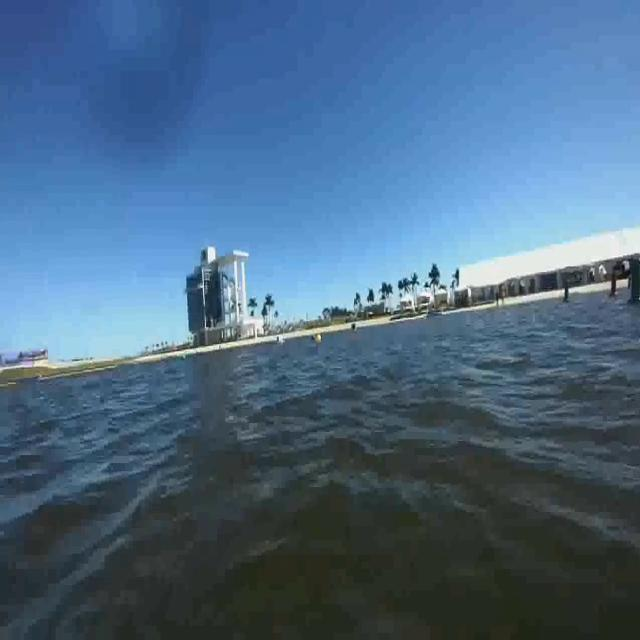green-column-buoy: (626, 256, 640, 306)
red-column-buoy: (610, 269, 622, 299)
